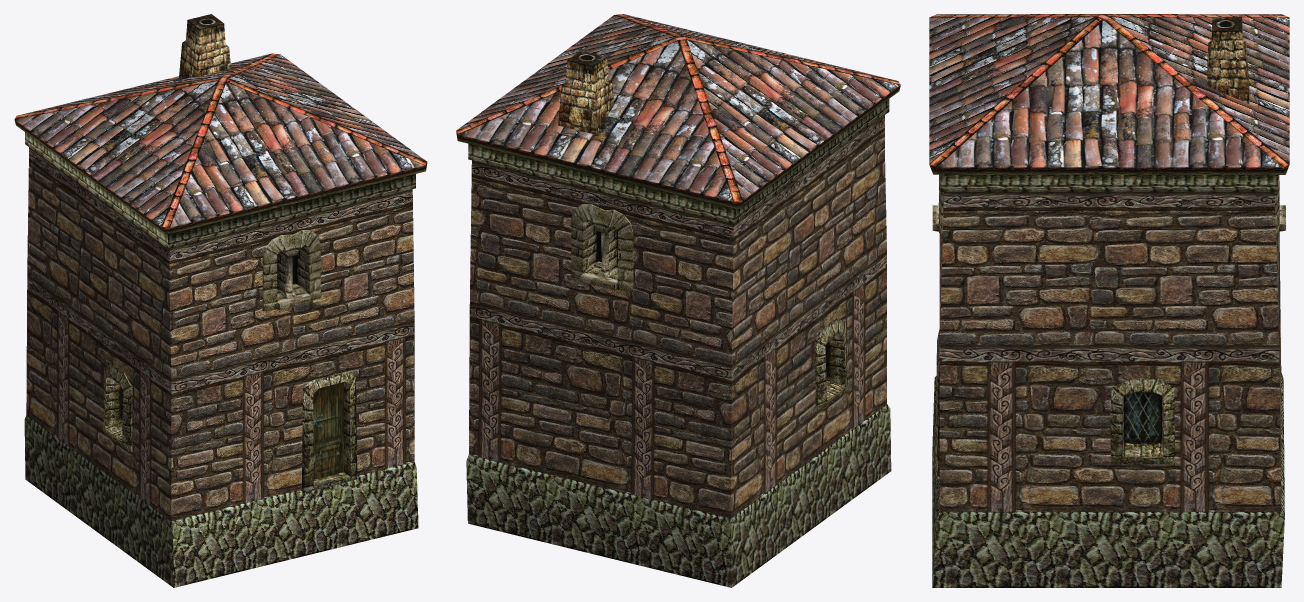
The model's file is tn5_house3.glb.
3 renders of one model, left to right at view 1: azimuth 30°, elevation 25°; view 2: azimuth 150°, elevation 25°; view 3: azimuth 270°, elevation 25°, orthographic. The views are drawn at different scales.
Visible parts, largest first — view 1: tn5_house3-col; view 2: tn5_house3-col; view 3: tn5_house3-col.
Boxes of the visible parts, x1=… form: tn5_house3-col: x1=14, y1=14, x2=427, y2=587; tn5_house3-col: x1=456, y1=14, x2=900, y2=587; tn5_house3-col: x1=929, y1=14, x2=1289, y2=587.
Size of the model in its own units: 6.69 by 10.47 by 6.66.
Materials: 12 (12 with a texture image).
